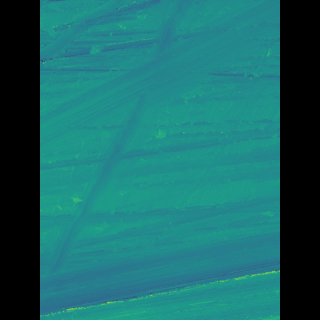Loch: (71, 0, 249, 319)
